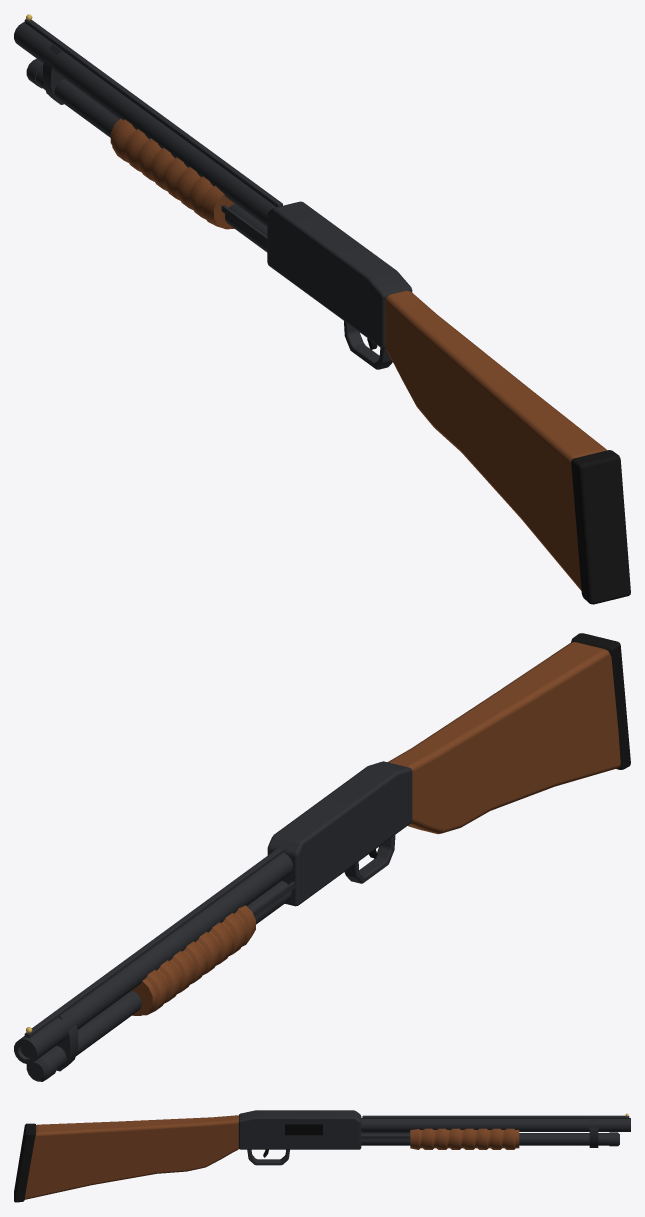
File: shotgun.glb
3 renders of one model, top to bottom at view 1: azimuth 30°, elevation 25°; view 2: azimuth 150°, elevation 25°; view 3: azimuth 270°, elevation 25°, orthographic. The views are drawn at different scales.
Parts seen in each view (by area): view 1: shotgun_body, slide, magazine; view 2: shotgun_body, slide, magazine; view 3: shotgun_body, slide, magazine.
Boxes of the visible parts, bbox=[...] form: shotgun_body: bbox=[14, 14, 630, 604]; slide: bbox=[110, 118, 267, 244]; magazine: bbox=[26, 58, 267, 252]; shotgun_body: bbox=[14, 633, 630, 1071]; slide: bbox=[132, 882, 295, 1015]; magazine: bbox=[26, 880, 291, 1081]; shotgun_body: bbox=[14, 1110, 630, 1202]; slide: bbox=[361, 1128, 519, 1149]; magazine: bbox=[361, 1132, 619, 1146].
Bounding box in the file's own units: 0.0535 × 0.1708 × 1.13.
